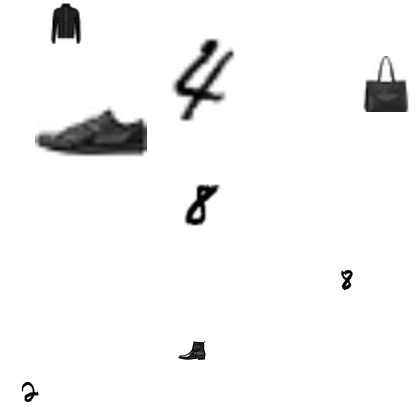2: (15, 378, 43, 406)
4: (145, 20, 257, 132)
8: (171, 175, 227, 231), (332, 265, 360, 293)
Ankle_boot: (178, 337, 206, 365)
Bag: (358, 56, 414, 112)
Coat: (45, 2, 87, 44)
Sneaker: (35, 75, 147, 187)
